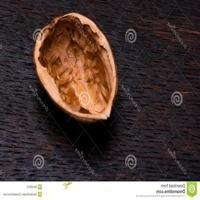biodegradable: (32, 10, 118, 123)
